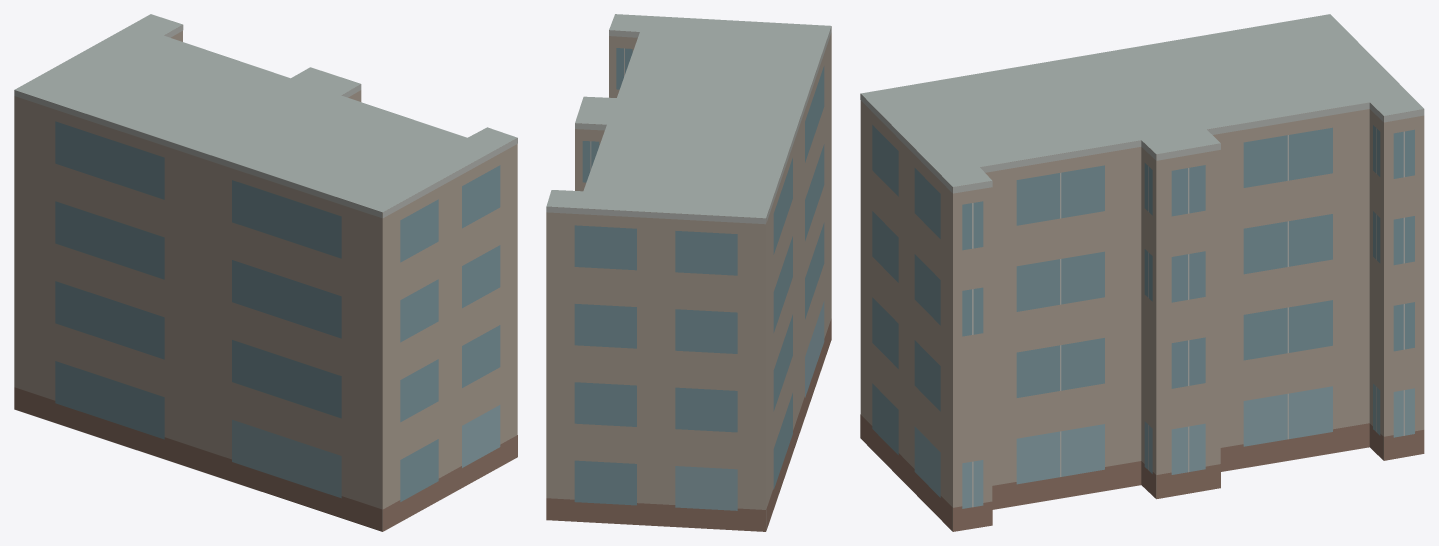
Rendered from survey-upis-33043477.glb.
3 views of the same model, side by side, from view 1: azimuth 30°, elevation 25°; view 2: azimuth 150°, elevation 25°; view 3: azimuth 270°, elevation 25° (orthographic). The views are drawn at different scales.
Visible parts, largest first — view 1: survey-upis-33043477.tmp; view 2: survey-upis-33043477.tmp; view 3: survey-upis-33043477.tmp.
Part boxes in pixels (left/top/right/bottom): survey-upis-33043477.tmp: left=14, top=14, right=517, bottom=531; survey-upis-33043477.tmp: left=546, top=14, right=831, bottom=531; survey-upis-33043477.tmp: left=860, top=14, right=1424, bottom=531.
Bounding box in the file's own units: 13.9 × 12.9 × 19.13.
